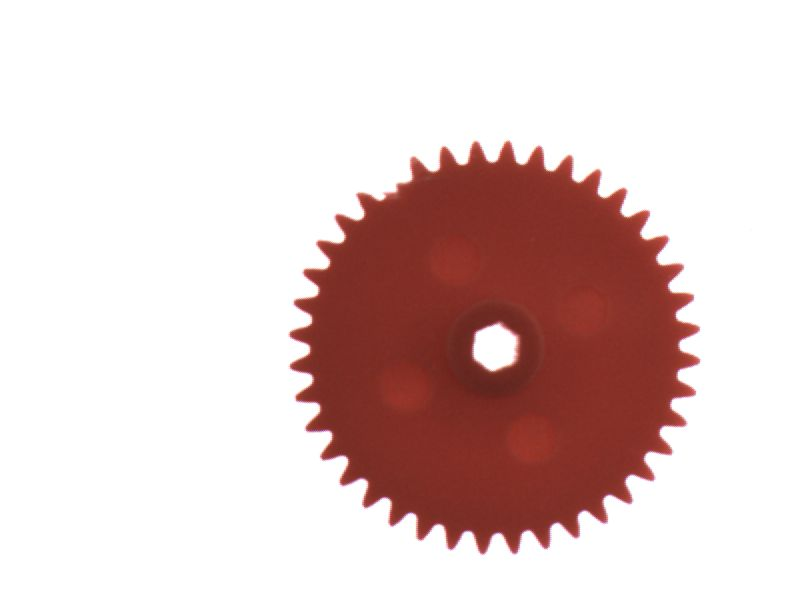defect_lack: (366, 162, 420, 211)
